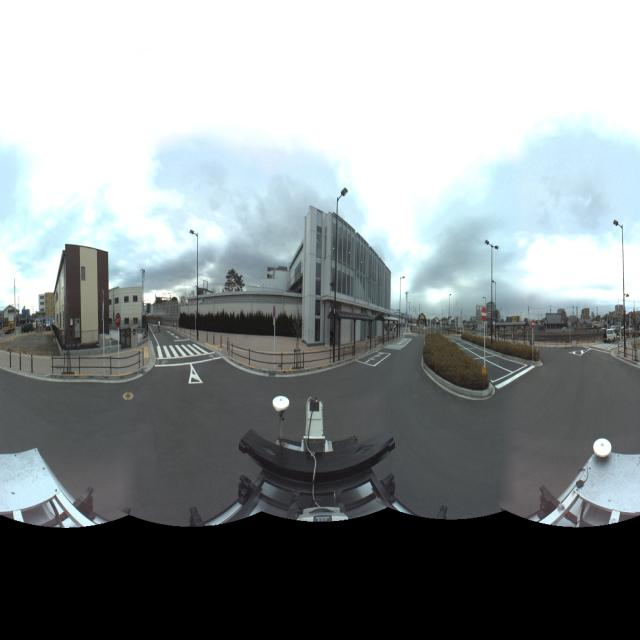b_1: (303, 208, 394, 342), (57, 240, 114, 355), (99, 277, 147, 339), (32, 282, 65, 334)
